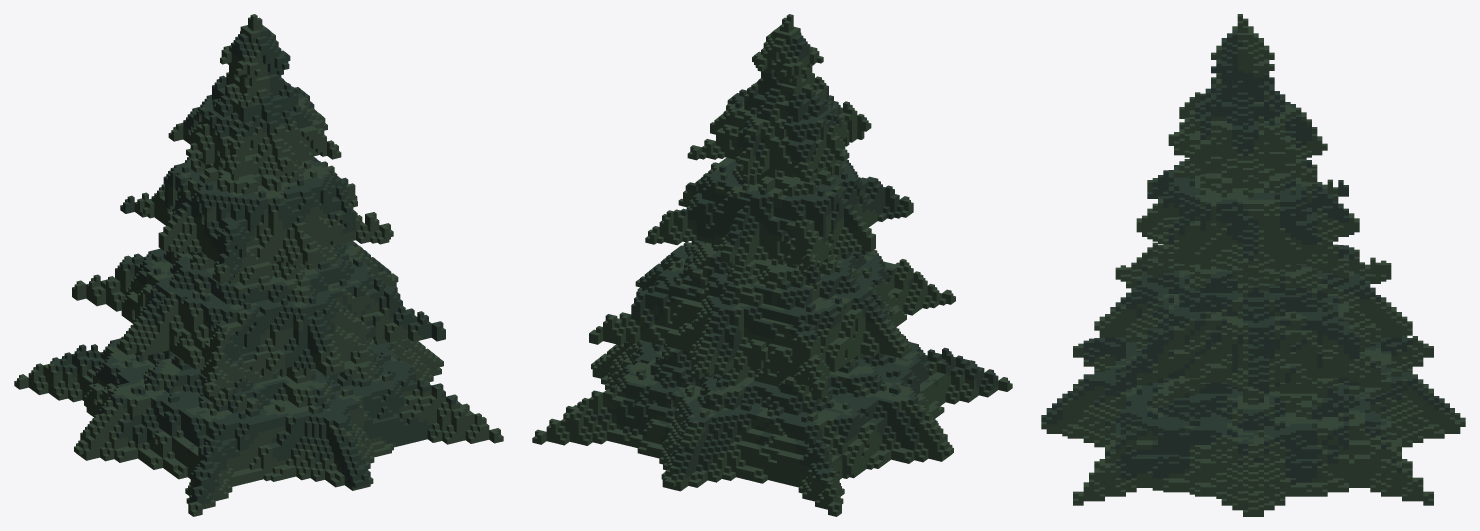
File: TreeCrown2.obj
3 views of the same model, side by side, from view 1: azimuth 30°, elevation 25°; view 2: azimuth 150°, elevation 25°; view 3: azimuth 270°, elevation 25° (orthographic). The views are drawn at different scales.
Size of the model in its own units: 8 by 8.7 by 8.
1 material, 1 textured.
